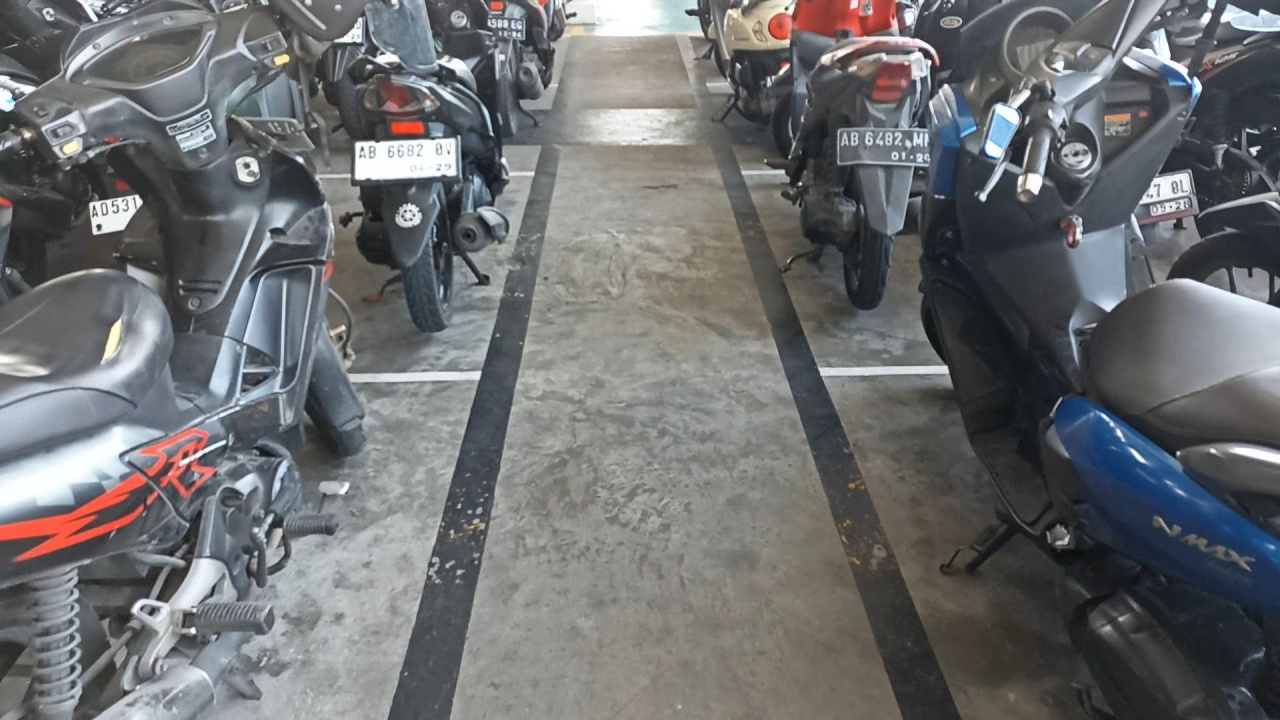plate: (354, 136, 459, 183), (838, 130, 931, 166)
